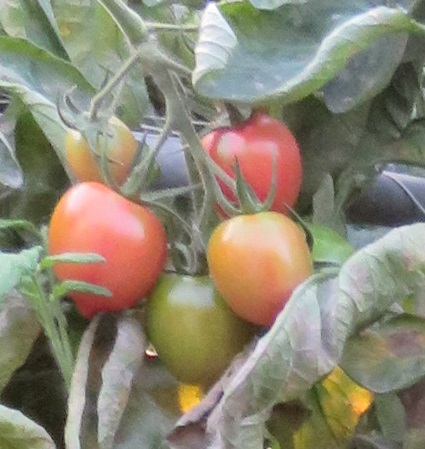green: (146, 266, 253, 381)
orange: (46, 185, 162, 321), (207, 212, 311, 326), (61, 119, 138, 185)
red: (200, 115, 309, 209)
